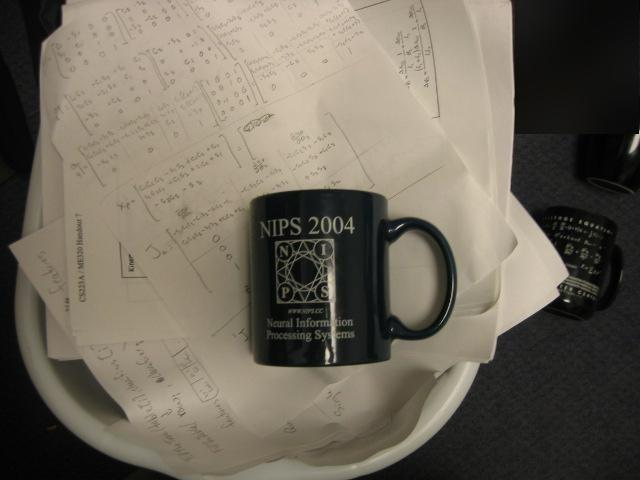cup-handle: (240, 188, 458, 366)
